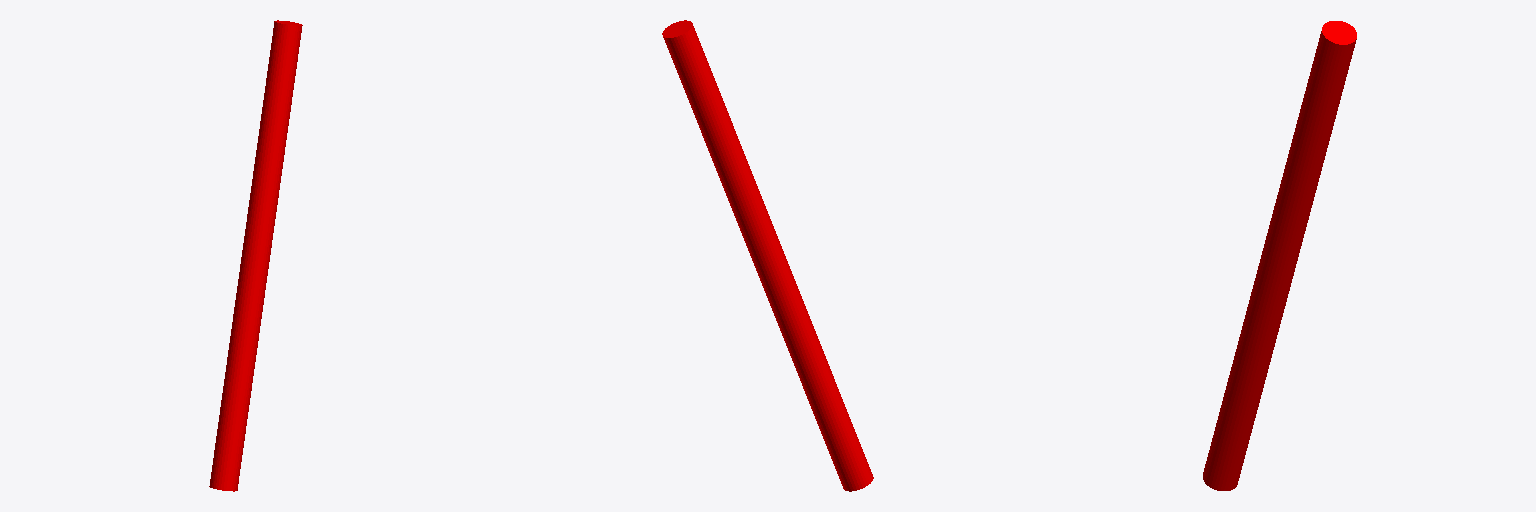
The robot description file, URDF, robot "tree_54.urdf":
<?xml version='1.0' encoding='utf-8'?>
<robot name="tree_54.urdf">
  <link name="branch_0">
    <inertial>
      <origin xyz="0.0 0.0 0.0" rpy="0.0 -0.0 0.0" />
      <mass value="1.0" />
      <inertia ixx="1.0" ixy="0.0" ixz="0.0" iyy="1.0" iyz="0.0" izz="1.0" />
    </inertial>
    <visual name="branch_0_visual">
      <geometry>
        <cylinder radius="0.07280709444907009" length="2.431792508113076" />
      </geometry>
      <material name="semantic_material" />
      <origin xyz="0.3315641816370886 0.24001963790094355 1.1449277127862478" rpy="0.0 0.3433484042537951 0.6265874460787916" />
    </visual>
    <collision name="branch_0_collision">
      <geometry>
        <cylinder radius="0.07280709444907009" length="2.431792508113076" />
      </geometry>
      <origin xyz="0.3315641816370886 0.24001963790094355 1.1449277127862478" rpy="0.0 0.3433484042537951 0.6265874460787916" />
    </collision>
  </link>
  <material name="semantic_material">
    <color rgba="1. 0. 0. 1." />
  </material>
</robot>

--- What the picture shows (computed from the rendered views, not written in the file) ---
The picture shows the robot from 3 angles, left to right: view 1: azimuth 30°, elevation 25°; view 2: azimuth 150°, elevation 25°; view 3: azimuth 270°, elevation 25°; orthographic projection.
Model tree_54.urdf with 1 links and 0 joints (none), rooted at branch_0, posed every joint at zero.
Visible links, largest first — view 1: branch_0; view 2: branch_0; view 3: branch_0.
Boxes of the visible links, x1=… form: branch_0: x1=209, y1=20, x2=302, y2=491; branch_0: x1=662, y1=20, x2=873, y2=491; branch_0: x1=1203, y1=21, x2=1356, y2=490.
Bounding box of the posed robot: 0.8029 × 0.6228 × 2.34 m (x, y, z).
Geometry: primitives only (box / cylinder / sphere), no mesh files.